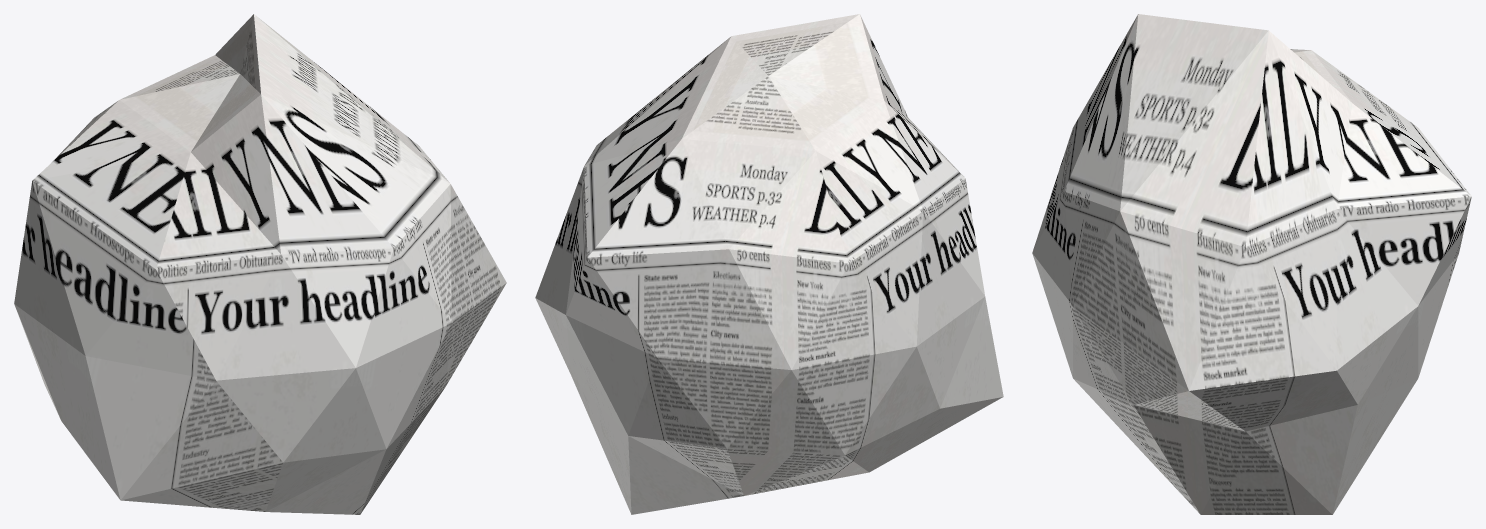
The model's file is Paper Ball.fbx.
3 views of the same model, side by side, from view 1: azimuth 30°, elevation 25°; view 2: azimuth 150°, elevation 25°; view 3: azimuth 270°, elevation 25° (orthographic). The views are drawn at different scales.
Visible parts, largest first — view 1: Icosphere; view 2: Icosphere; view 3: Icosphere.
Part boxes in pixels (x1,y1,x2,y2): Icosphere: [14, 14, 506, 514]; Icosphere: [535, 14, 1003, 514]; Icosphere: [1032, 14, 1471, 514].
Size of the model in its own units: 213 by 234 by 206.
1 material, 1 textured.
